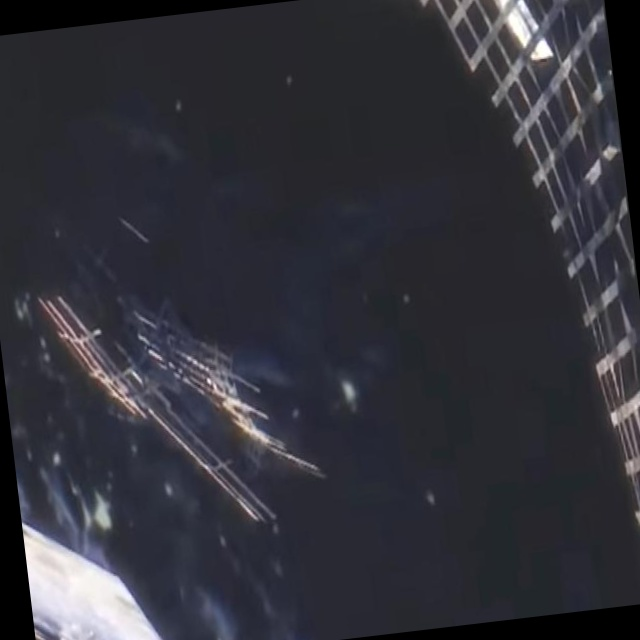large_debris: (411, 0, 640, 621), (23, 245, 331, 564)
